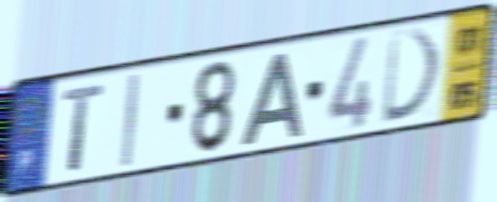4: (326, 31, 376, 135)
8: (190, 58, 238, 155)
A: (238, 48, 305, 148)
D: (379, 25, 445, 128)
I: (119, 70, 143, 171)
T: (60, 80, 107, 175)
